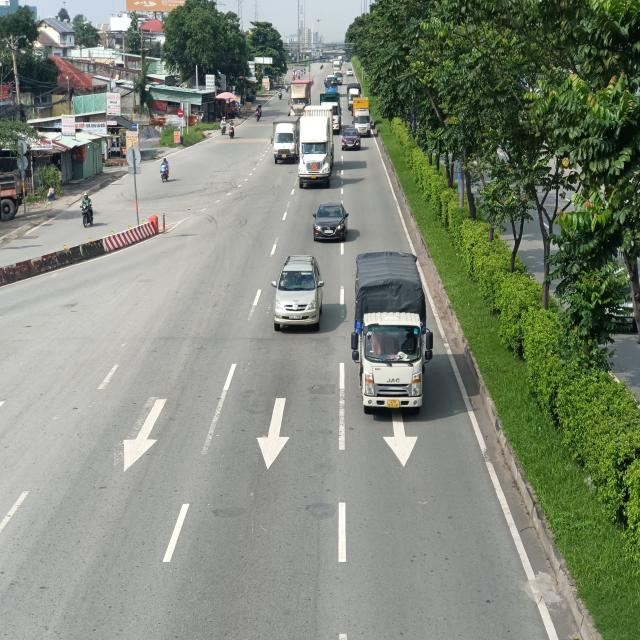car: (270, 254, 324, 332), (311, 201, 349, 240), (341, 128, 361, 150)
coach: (324, 74, 338, 94)
container: (297, 105, 334, 187), (288, 78, 311, 115)
truck: (350, 250, 434, 414), (270, 114, 300, 166)
van: (352, 107, 373, 137)
